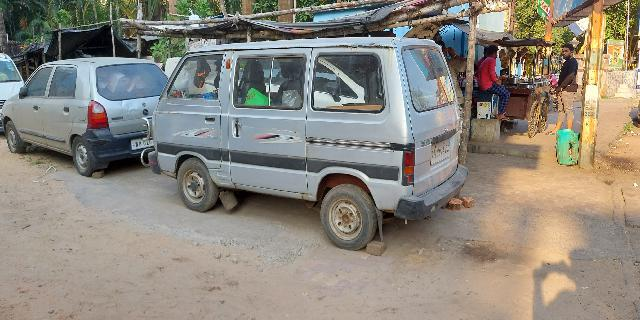Car: (2, 51, 166, 180)
Van: (143, 31, 472, 253)
